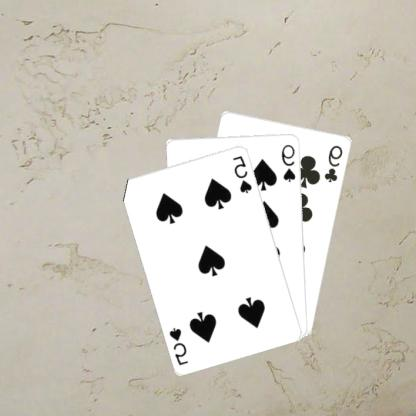5S: (168, 324, 192, 366), (232, 152, 255, 194)
9C: (324, 142, 346, 184)
9S: (281, 141, 298, 183)
